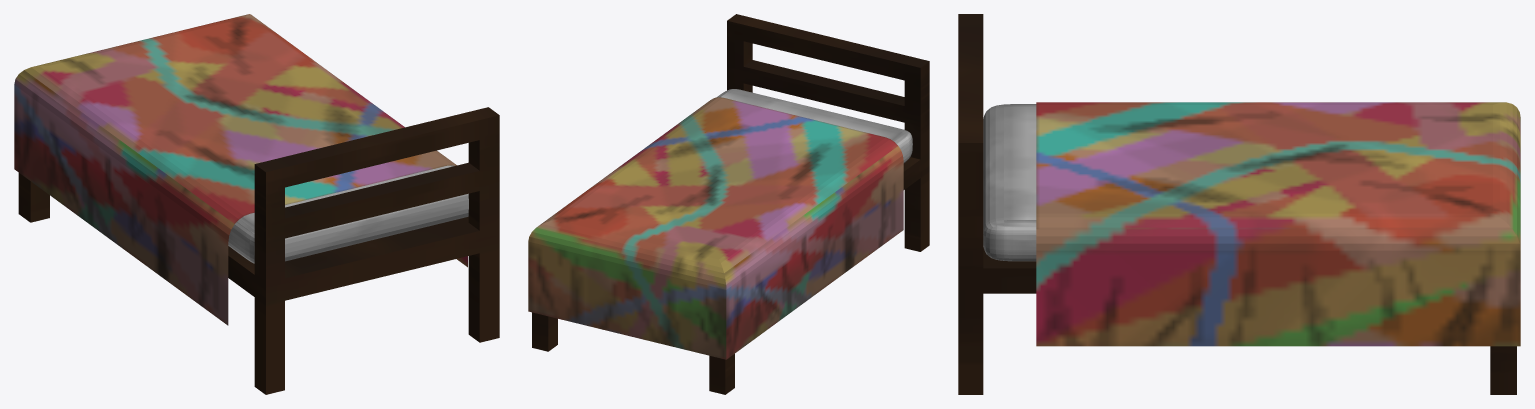
Rendered from Bed.obj.
The picture shows the model from 3 angles, left to right: view 1: azimuth 30°, elevation 25°; view 2: azimuth 150°, elevation 25°; view 3: azimuth 270°, elevation 25°; orthographic projection. The views are drawn at different scales.
Visible parts, largest first — view 1: Bed_Material.019, Bed_Material.016, Bed_Material.017; view 2: Bed_Material.019, Bed_Material.016, Bed_Material.017; view 3: Bed_Material.019, Bed_Material.016, Bed_Material.017.
Part boxes in pixels (left/top/right/bottom): Bed_Material.019: left=14, top=14, right=467, bottom=325; Bed_Material.016: left=18, top=107, right=499, bottom=394; Bed_Material.017: left=228, top=165, right=468, bottom=263; Bed_Material.019: left=528, top=97, right=903, bottom=359; Bed_Material.016: left=532, top=14, right=929, bottom=394; Bed_Material.017: left=716, top=89, right=912, bottom=163; Bed_Material.019: left=1036, top=102, right=1520, bottom=346; Bed_Material.016: left=958, top=14, right=1516, bottom=394; Bed_Material.017: left=983, top=104, right=1036, bottom=261.
Bounding box in the file's own units: 12.42 × 11.03 × 22.33.
